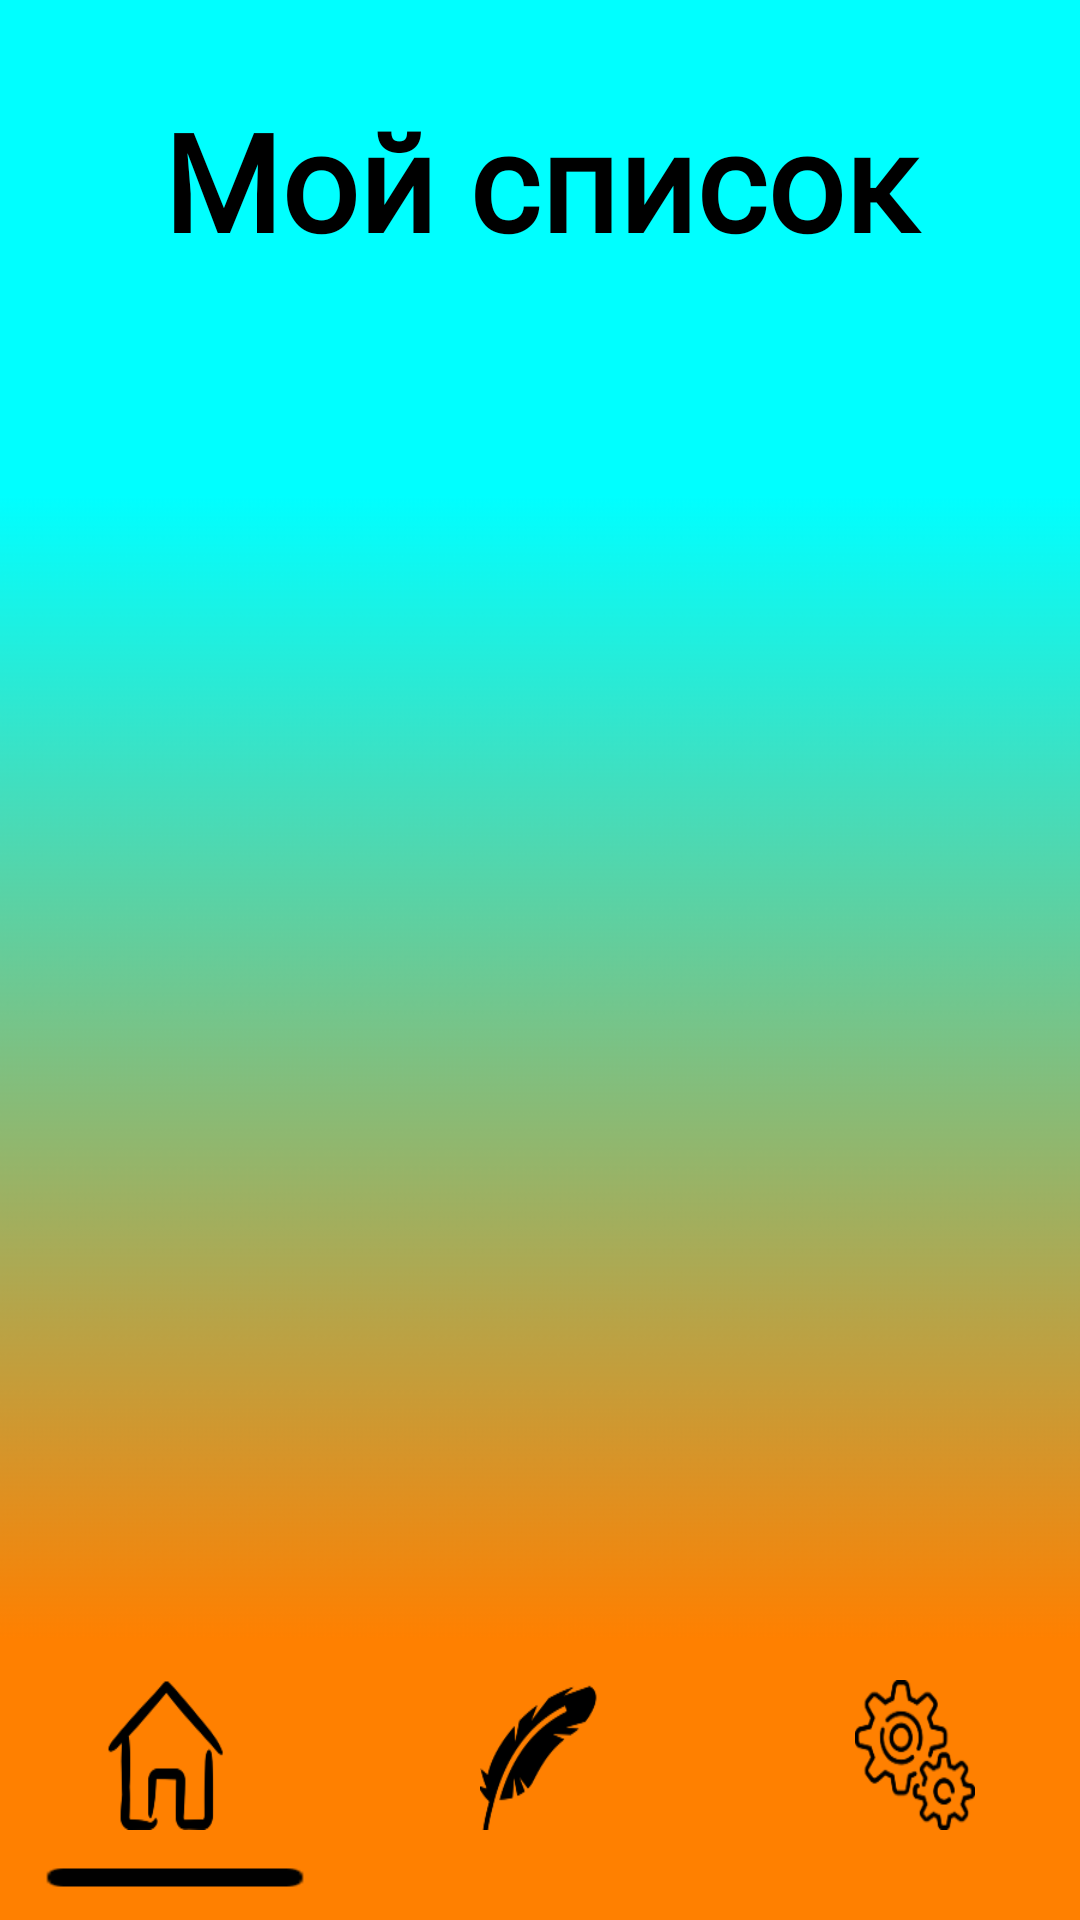

Icons on this 1080 x 1920 Android screen, each with its box as (x1, y1, x2, y2):
settings: (855, 1680, 975, 1830)
